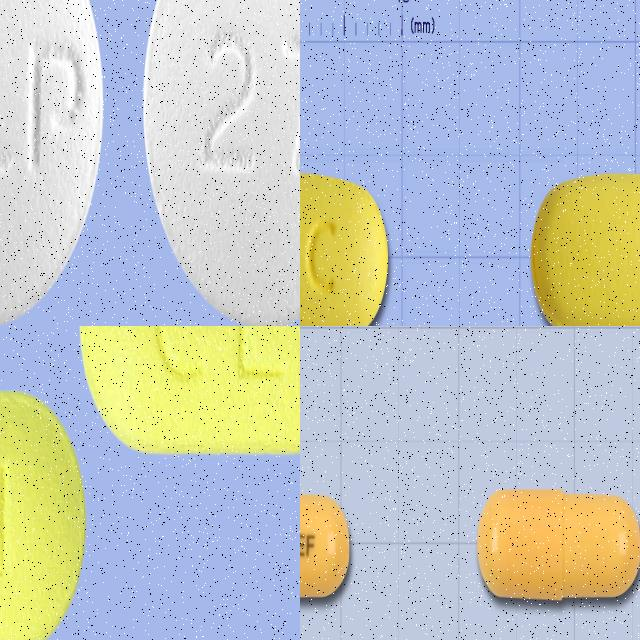Cefixime Cap- Samsung: (473, 480, 640, 606), (300, 482, 355, 611)
Clabicks: (528, 163, 640, 326), (300, 170, 394, 326)
Cyclin: (78, 326, 300, 458), (0, 385, 87, 640)
Cyrus: (141, 0, 300, 326), (0, 0, 104, 326)
